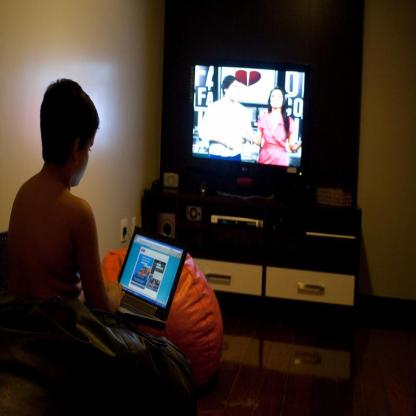board: (107, 230, 185, 334)
